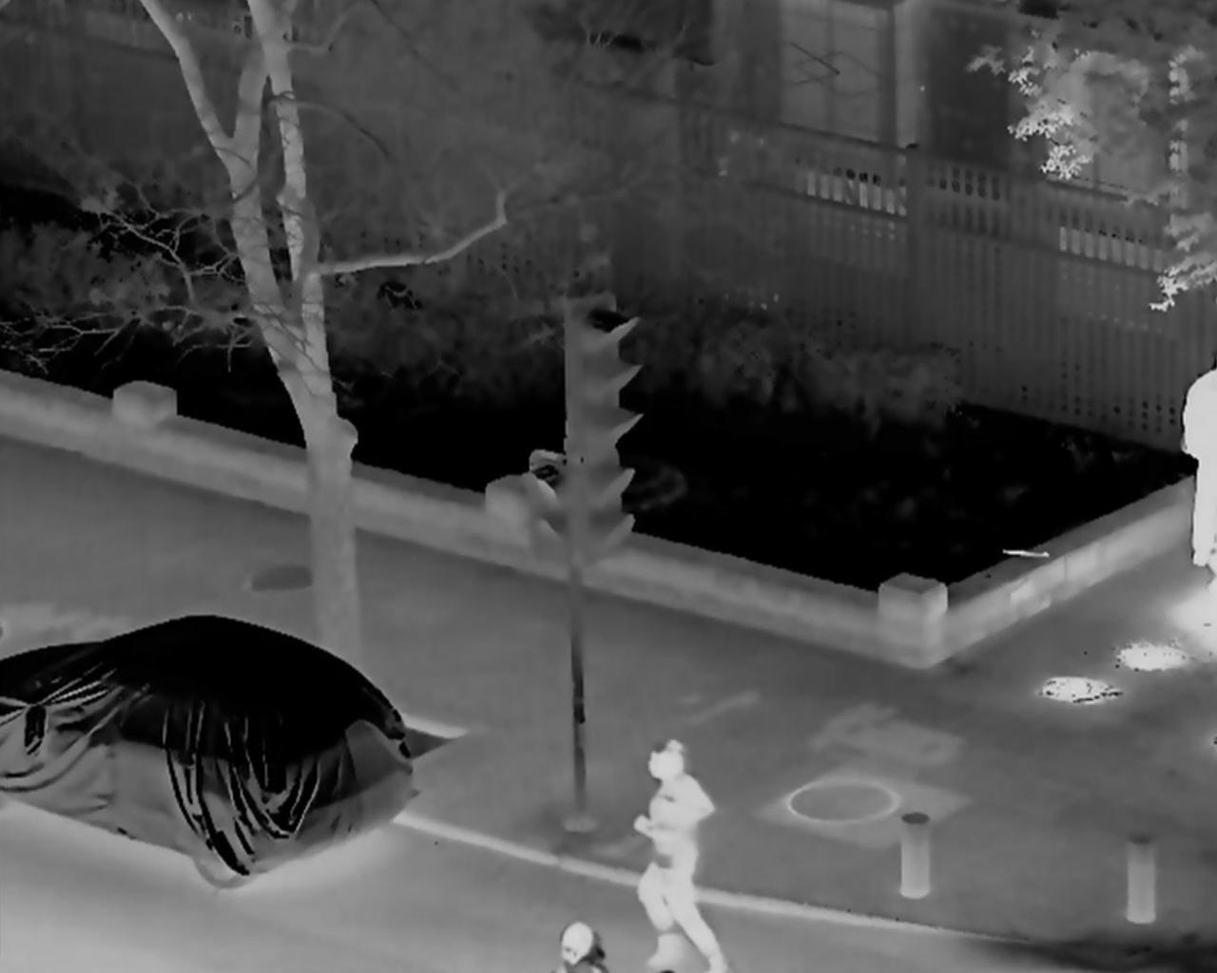person: (633, 745, 727, 973), (1175, 358, 1217, 561), (545, 913, 609, 973)
